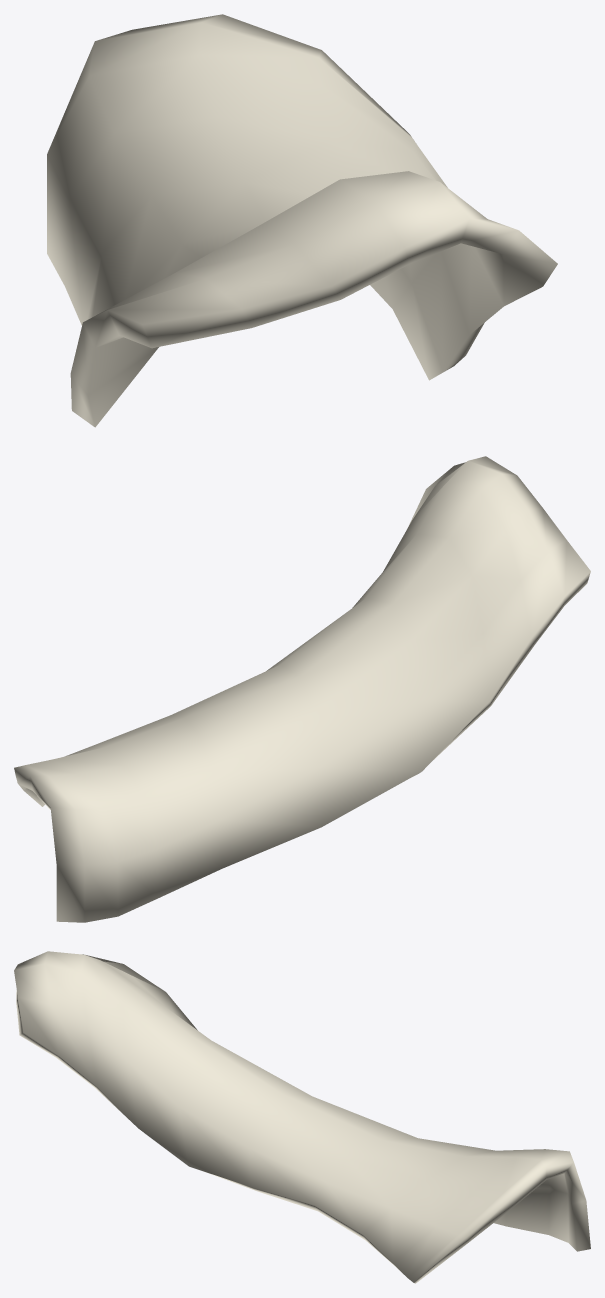
3 views of the same model, one above another, from view 1: azimuth 30°, elevation 25°; view 2: azimuth 150°, elevation 25°; view 3: azimuth 270°, elevation 25° (orthographic). The views are drawn at different scales.
Visible parts, largest first — view 1: ZA_6da570f349f03dec; view 2: ZA_6da570f349f03dec; view 3: ZA_6da570f349f03dec.
Boxes of the visible parts, x1,y1,x2,y2 form: ZA_6da570f349f03dec: (47,14,557,427); ZA_6da570f349f03dec: (14,456,590,922); ZA_6da570f349f03dec: (14,951,590,1283).
Bounding box in the file's own units: 0.0135 × 0.00915 × 0.02.
